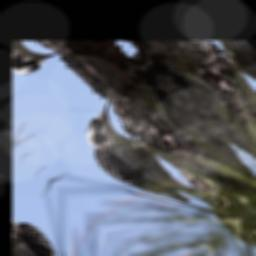Woodpecker: (60, 92, 211, 234)
